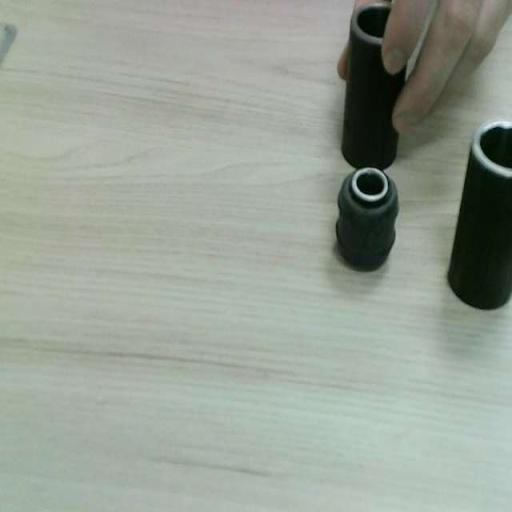peca: (449, 122, 511, 308), (342, 0, 406, 169), (336, 167, 398, 270)
